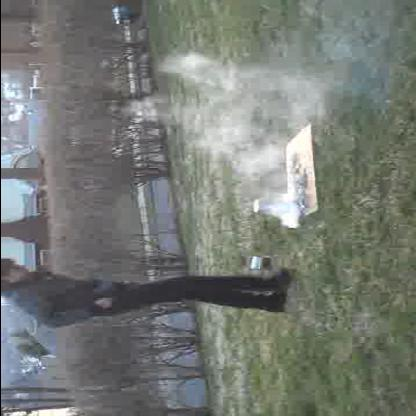Smoke: (185, 76, 286, 148)
